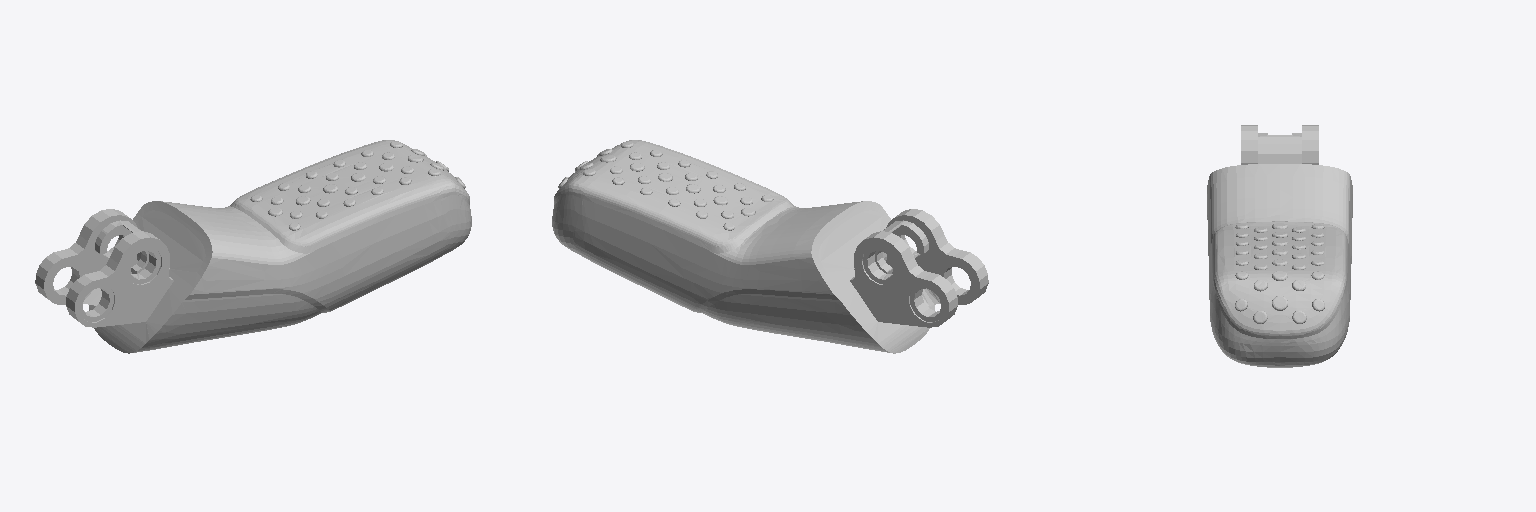
File: right_little_2_visuals.obj
The picture shows the model from 3 angles: view 1: azimuth 30°, elevation 25°; view 2: azimuth 150°, elevation 25°; view 3: azimuth 270°, elevation 25°; orthographic projection.
Bounding box in the file's own units: 0.053 × 0.0162 × 0.0167.